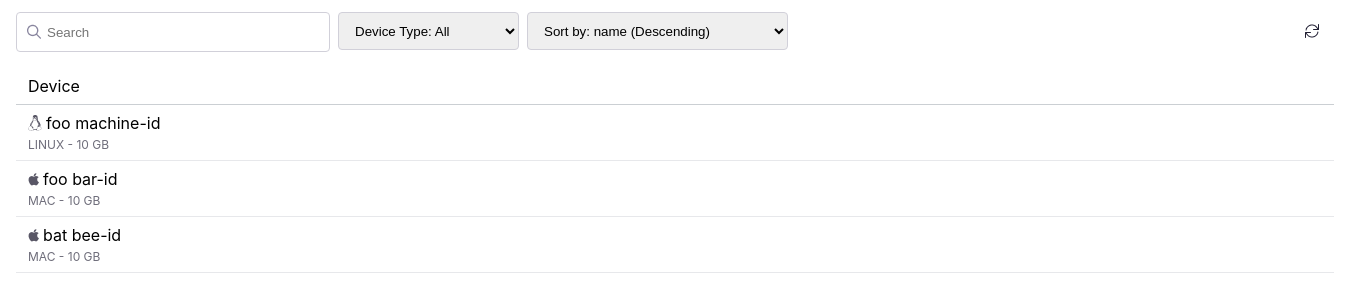
Test: DevicesTable › should filter by text
Type "zz" into the field with placeholder "Search" at (173, 32), box [16,12,330,52]
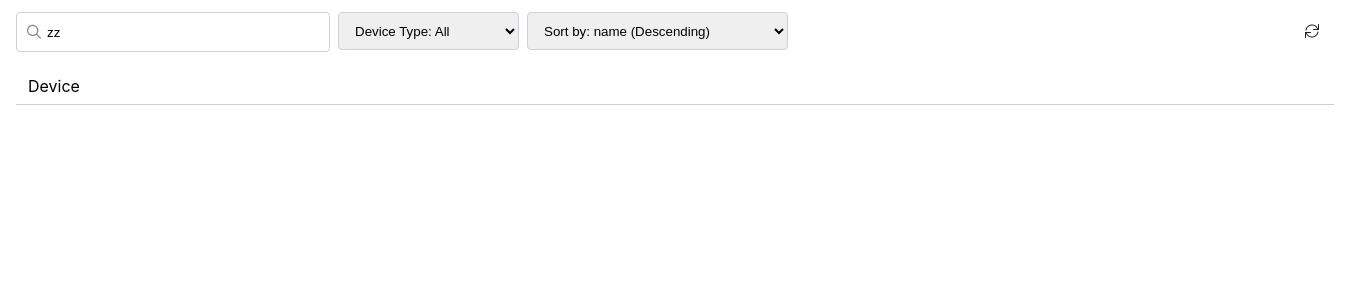
Expected: the text "foo machine-id" is gone
